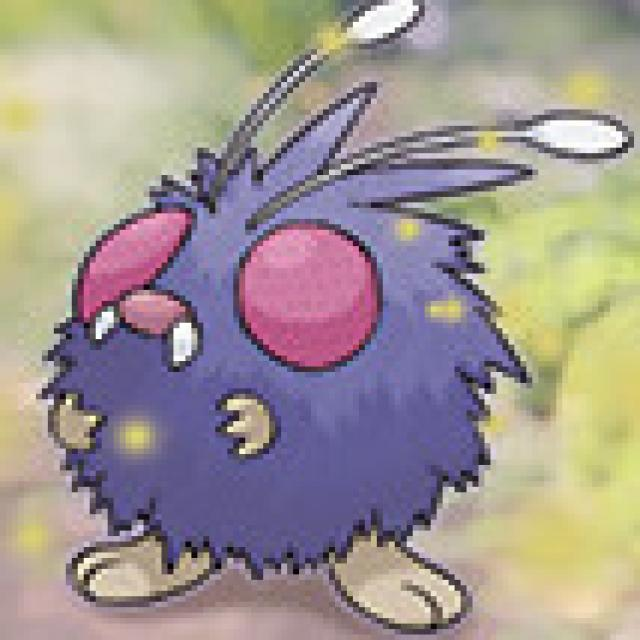Venonat: (15, 11, 640, 617)
